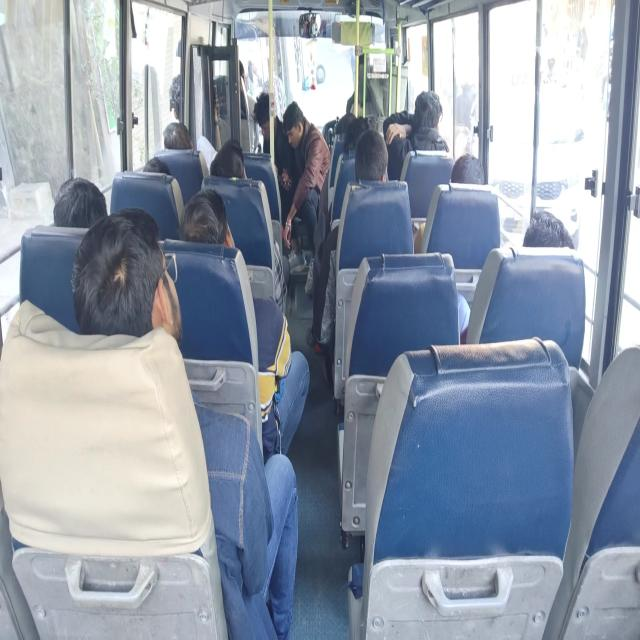person: (70, 206, 299, 638), (178, 187, 310, 462), (306, 129, 388, 353), (457, 208, 575, 342), (209, 139, 291, 296), (281, 100, 331, 272), (383, 89, 449, 180), (252, 90, 296, 226), (178, 187, 235, 248), (53, 176, 107, 228), (409, 90, 449, 152), (522, 208, 575, 249), (210, 139, 246, 179), (343, 115, 371, 154), (450, 153, 484, 184), (162, 121, 192, 150), (142, 157, 170, 174)
